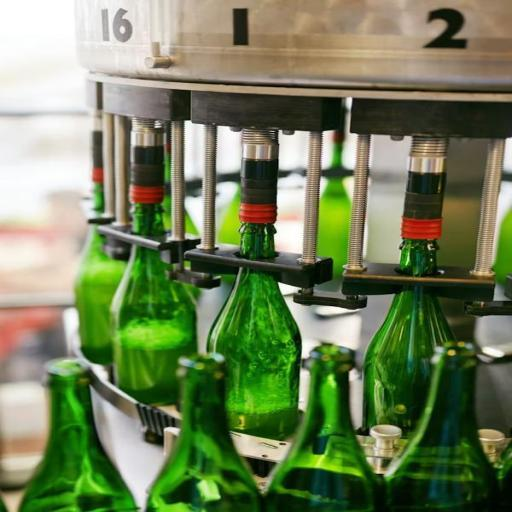bottle: (94, 192, 214, 414), (206, 197, 310, 440), (26, 345, 138, 512), (276, 338, 382, 512)
